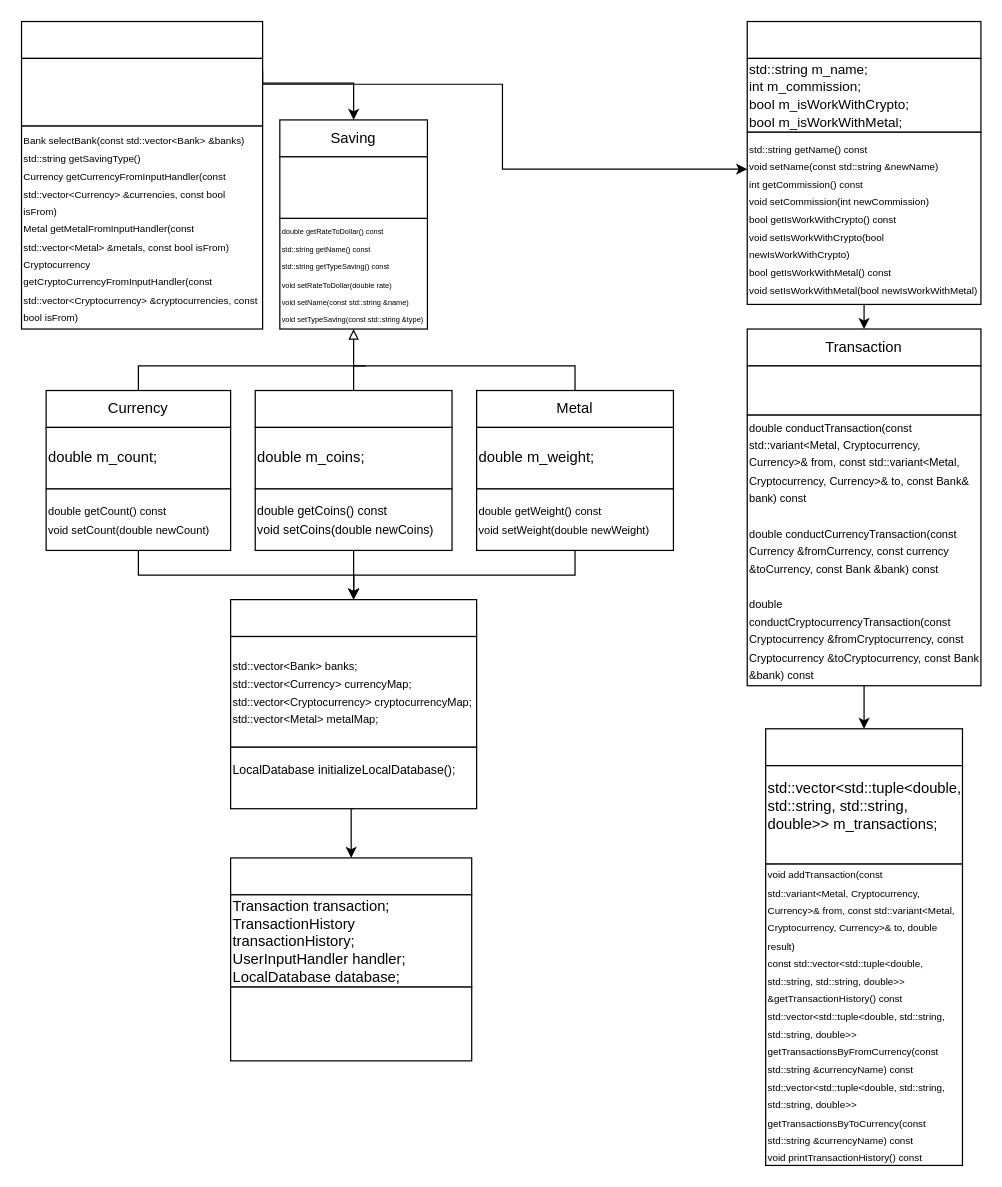
This 1002x1187 diagram has some shape labels left out. Each missing label, with the centre of its shape:
Bank: the point at 863,39
Cryptocurrency: the point at 353,408
HistoryTransaction: the point at 863,747
LocalDatabase: the point at 353,617
rateToDollar: int; name: string; typeSaving: string;: the point at 353,187
std::map<std::string, Saving> m_currencies;: the point at 863,390
std::string m_typeSaving;: the point at 141,91
UserInputHandler: the point at 141,39
UserInterface: the point at 350,876
void run();: the point at 350,1023
